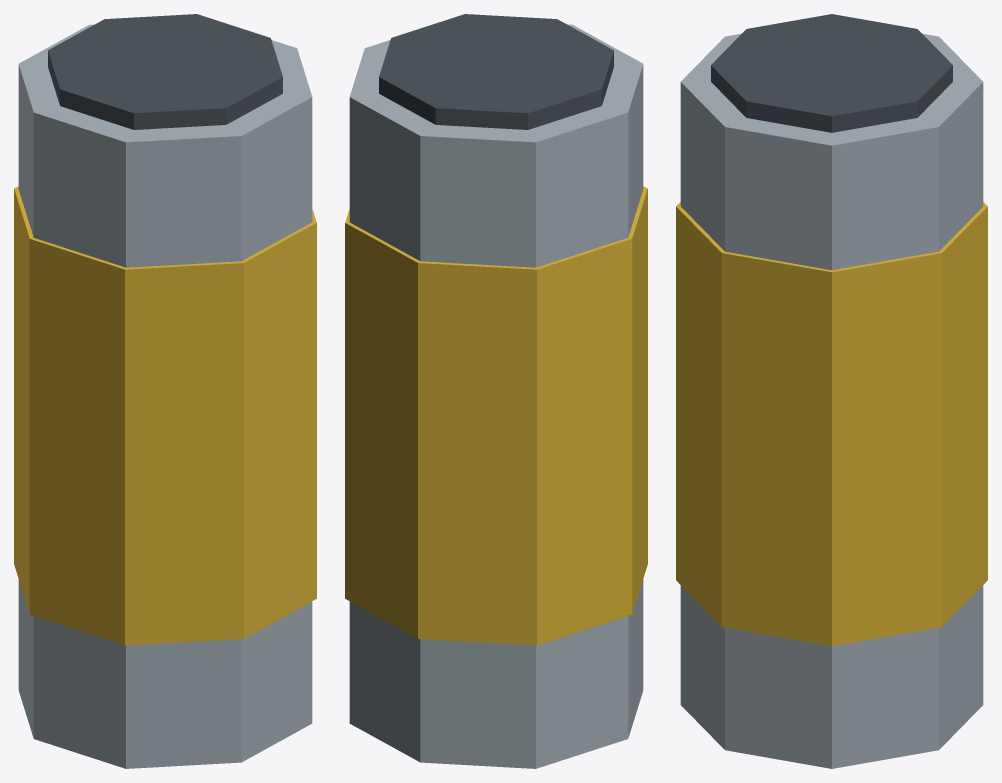
Rendered from FD_BeerCan_01.glb.
3 renders of one model, left to right at view 1: azimuth 30°, elevation 25°; view 2: azimuth 150°, elevation 25°; view 3: azimuth 270°, elevation 25°, orthographic.
Parts seen in each view (by area): view 1: FD_BeerCan_01; view 2: FD_BeerCan_01; view 3: FD_BeerCan_01.
Boxes of the visible parts, x1,y1,x2,y2 form: FD_BeerCan_01: (14,14,316,768); FD_BeerCan_01: (345,14,647,768); FD_BeerCan_01: (676,14,987,768).
Bounding box in the file's own units: 0.068 × 0.154 × 0.068.
Materials: 1 (1 with a texture image).
